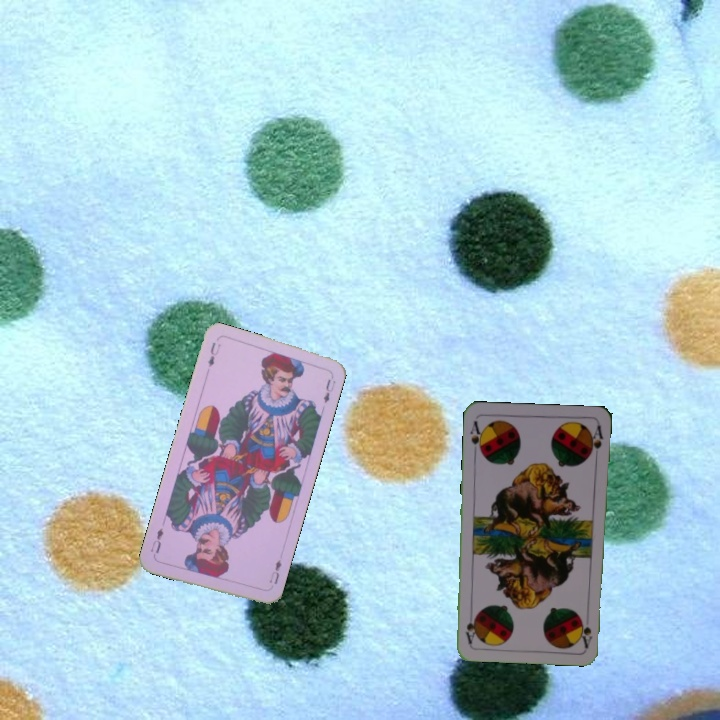EU: (203, 338, 223, 369), (265, 556, 284, 587)
SA: (466, 417, 486, 457), (578, 620, 595, 650)
